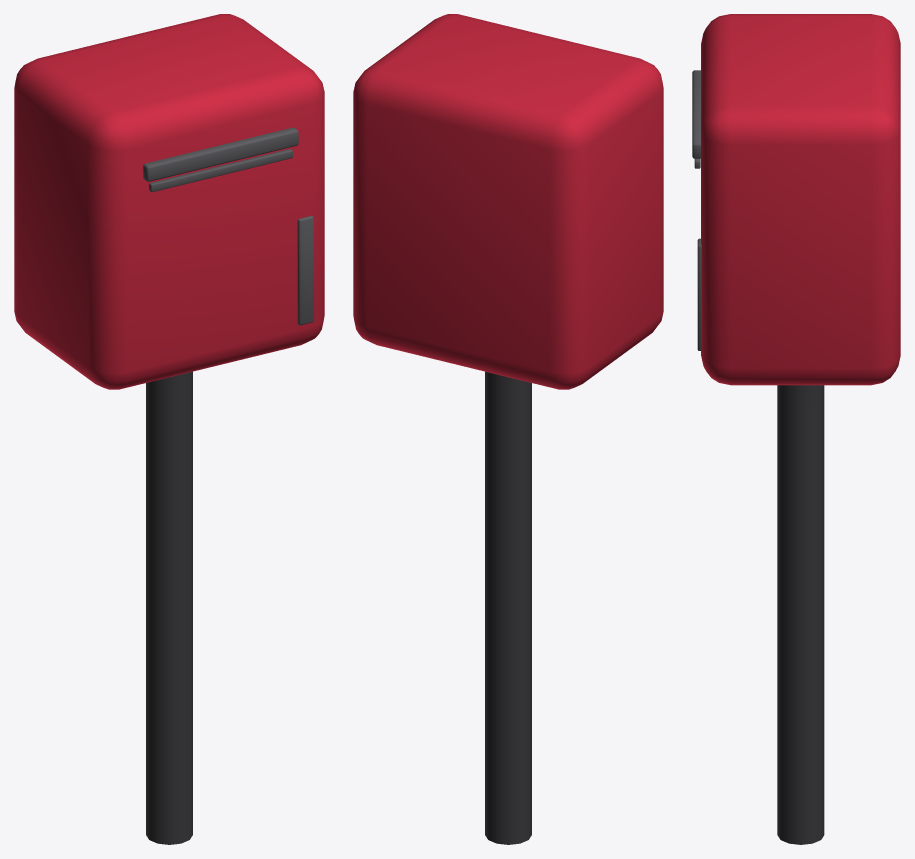
The model's file is mailbox.glb.
The picture shows the model from 3 angles, left to right: view 1: azimuth 30°, elevation 25°; view 2: azimuth 150°, elevation 25°; view 3: azimuth 270°, elevation 25°; orthographic projection.
Visible parts, largest first — view 1: body, post, slot_lip, hinge, slot; view 2: body, post; view 3: body, post, slot_lip, hinge.
Boxes of the visible parts, bbox=[...] form: body: bbox=[14, 14, 324, 389]; post: bbox=[146, 371, 192, 844]; slot_lip: bbox=[143, 127, 298, 181]; hinge: bbox=[297, 215, 313, 325]; slot: bbox=[149, 149, 292, 192]; body: bbox=[353, 14, 663, 389]; post: bbox=[485, 371, 531, 844]; body: bbox=[701, 14, 900, 385]; post: bbox=[777, 385, 824, 844]; slot_lip: bbox=[692, 70, 700, 158]; hinge: bbox=[697, 238, 701, 350].
Size of the model in its own units: 0.46 by 1.46 by 0.355.
